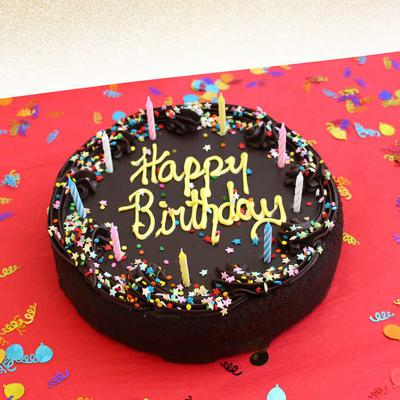cake: (51, 102, 346, 368)
